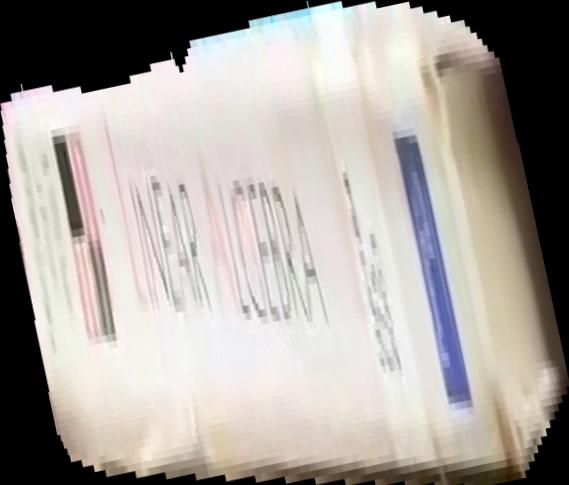flat: (1, 1, 569, 485)
